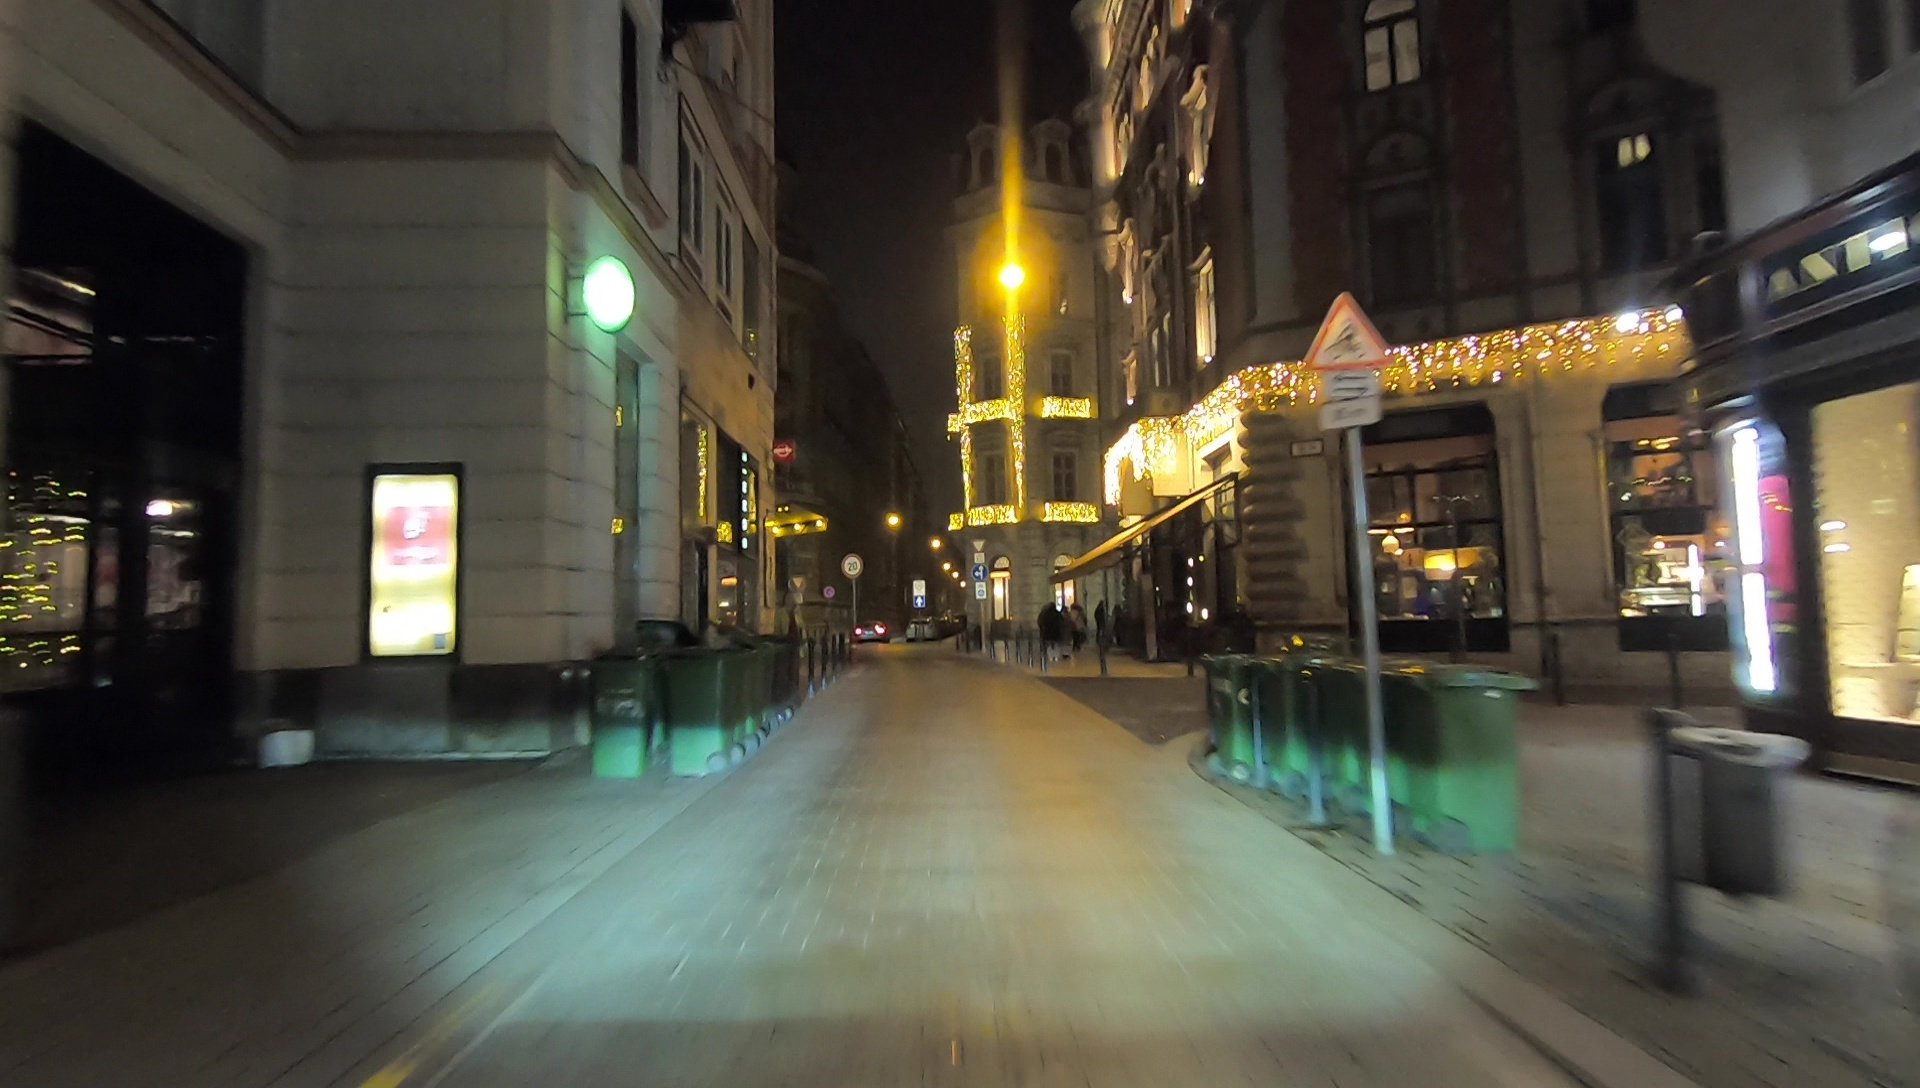person: (1039, 599, 1060, 665), (1067, 599, 1088, 650), (1054, 602, 1069, 654), (1097, 595, 1110, 654)
